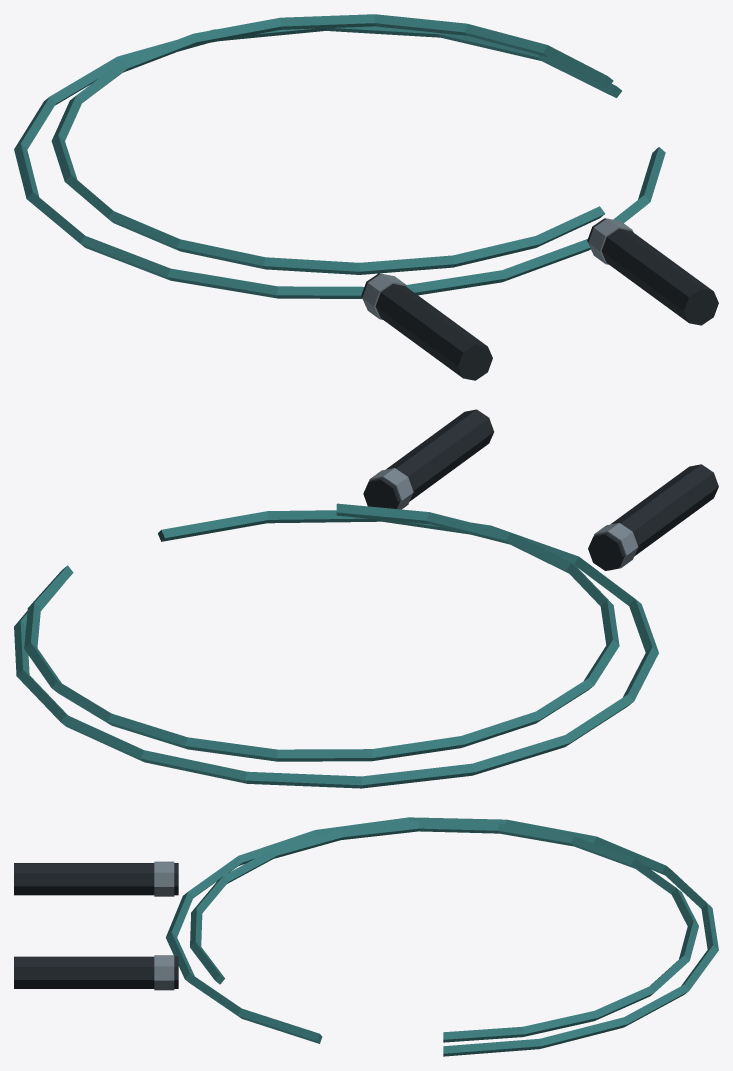
Rendered from b17_coiled_jump_rope.glb.
3 renders of one model, top to bottom at view 1: azimuth 30°, elevation 25°; view 2: azimuth 150°, elevation 25°; view 3: azimuth 270°, elevation 25°, orthographic. The views are drawn at different scales.
Parts seen in each view (by area): view 1: b17_coiled_jump_rope; view 2: b17_coiled_jump_rope; view 3: b17_coiled_jump_rope.
Boxes of the visible parts, x1,y1,x2,y2 form: b17_coiled_jump_rope: (14,14,718,380); b17_coiled_jump_rope: (14,409,718,788); b17_coiled_jump_rope: (14,817,718,1056).
Bounding box in the file's own units: 0.3864 × 0.026 × 0.4927.
